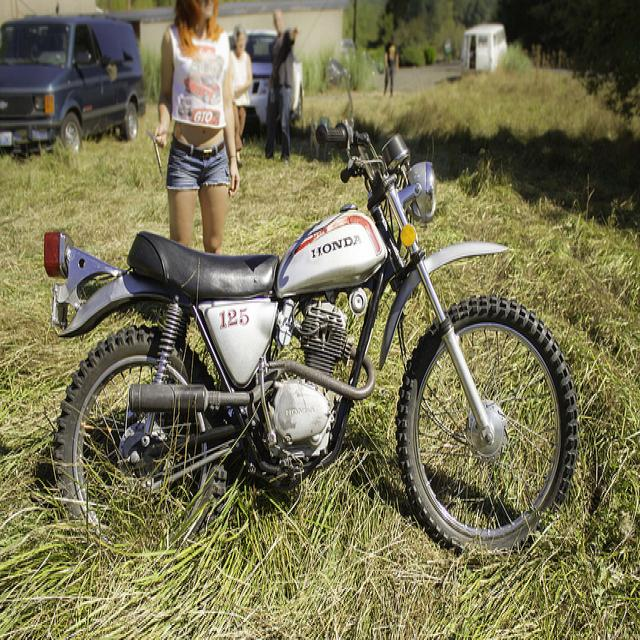motor: (30, 99, 590, 564)
